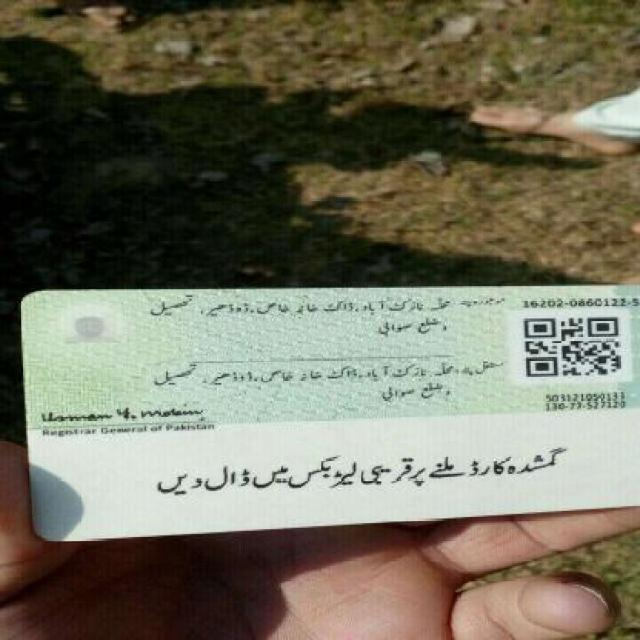Back: (11, 279, 638, 526)
